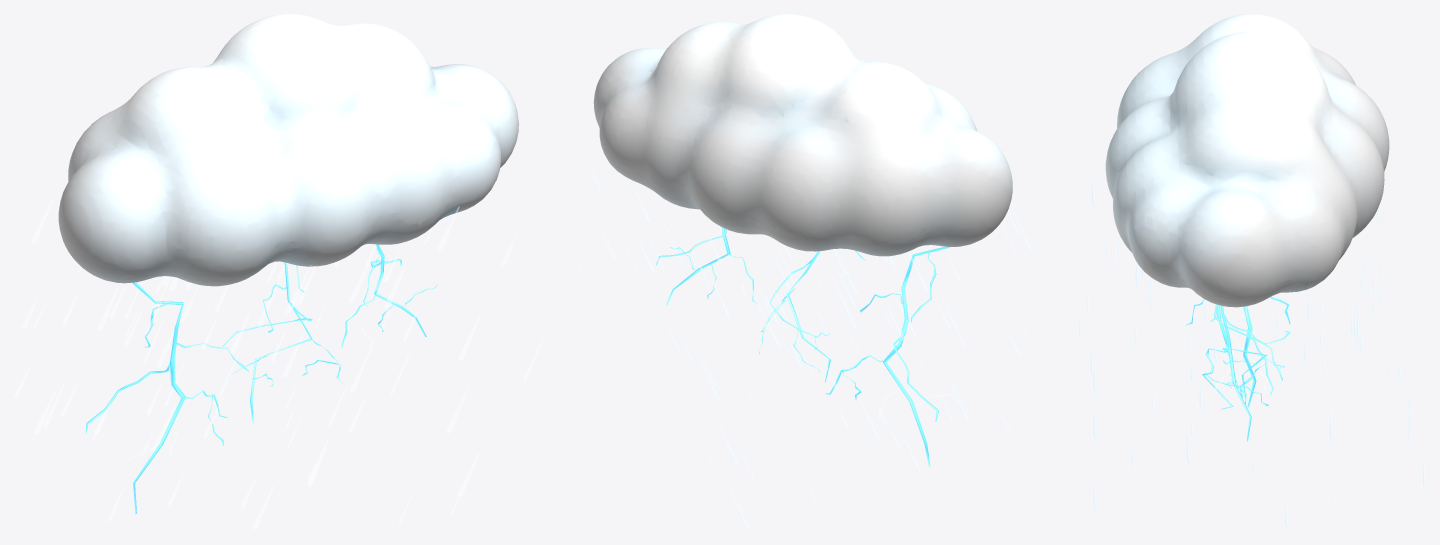
File: cloud_lightning.glb
3 renders of one model, left to right at view 1: azimuth 30°, elevation 25°; view 2: azimuth 150°, elevation 25°; view 3: azimuth 270°, elevation 25°, orthographic. The views are drawn at different scales.
Visible parts, largest first — view 1: Mball.034, th bolt.001, th bolt.002, th bolt.000; view 2: Mball.034, th bolt.001, th bolt.002, th bolt.000; view 3: Mball.034, th bolt.002, th bolt.000, th bolt.001.
Boxes of the visible parts, x1=… form: Mball.034: x1=58, y1=14, x2=518, y2=286; th bolt.001: x1=85, y1=282, x2=248, y2=514; th bolt.002: x1=223, y1=262, x2=343, y2=423; th bolt.000: x1=341, y1=244, x2=437, y2=350; Mball.034: x1=593, y1=14, x2=1012, y2=256; th bolt.001: x1=825, y1=246, x2=958, y2=466; th bolt.002: x1=759, y1=250, x2=865, y2=382; th bolt.000: x1=656, y1=227, x2=757, y2=305; Mball.034: x1=1105, y1=14, x2=1389, y2=307; th bolt.002: x1=1202, y1=304, x2=1290, y2=409; th bolt.000: x1=1186, y1=299, x2=1282, y2=441; th bolt.001: x1=1210, y1=296, x2=1290, y2=407.
Size of the model in its own units: 11 by 11.35 by 7.92.
3 materials, 3 textured.
